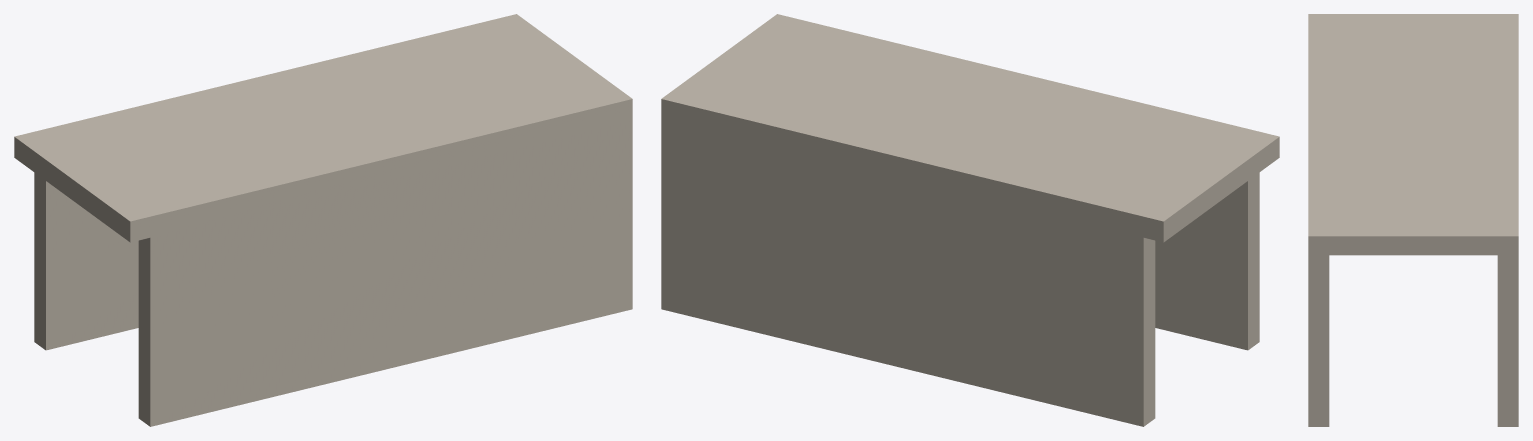
File: gallery_adit.gltf
The picture shows the model from 3 angles, left to right: view 1: azimuth 30°, elevation 25°; view 2: azimuth 150°, elevation 25°; view 3: azimuth 270°, elevation 25°; orthographic projection. The views are drawn at different scales.
Parts seen in each view (by area): view 1: Adit; view 2: Adit; view 3: Adit.
Part boxes in pixels (x1,y1,x2,y2): Adit: [14, 14, 632, 426]; Adit: [661, 14, 1279, 426]; Adit: [1308, 14, 1518, 426].
Size of the model in its own units: 12.5 by 5 by 5.
